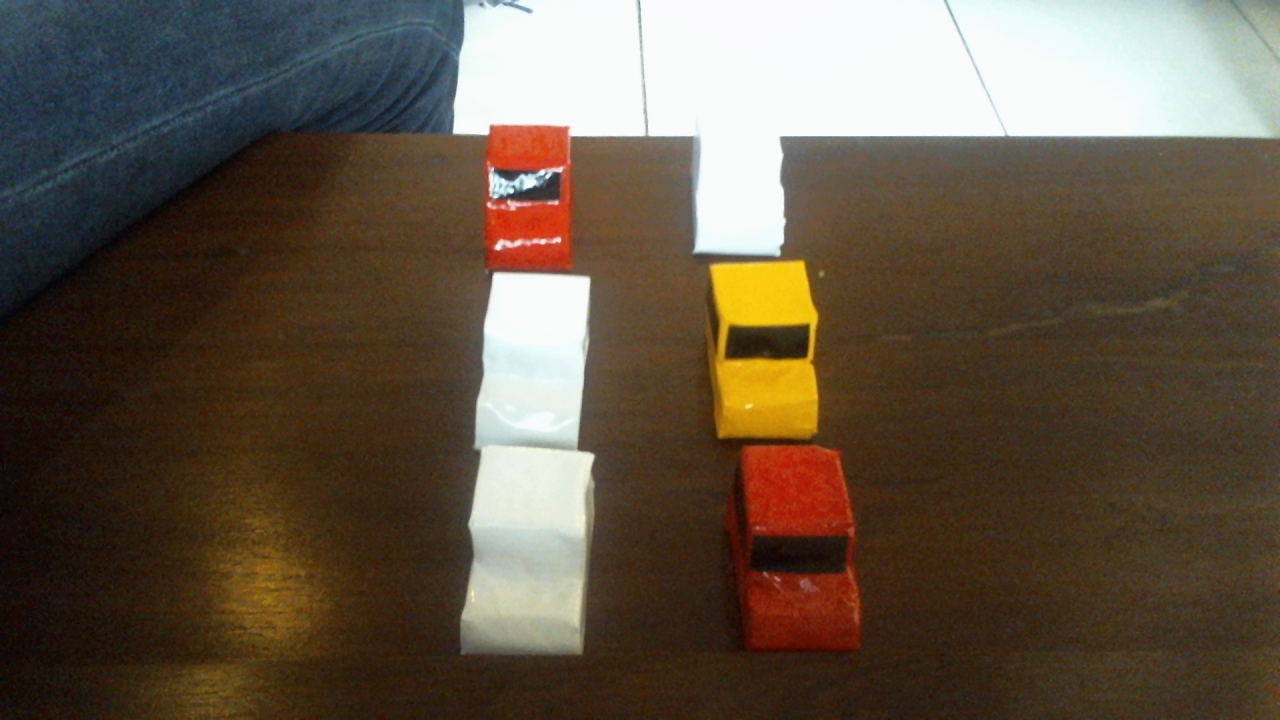Kijang Kapsul: (679, 256, 908, 448)
